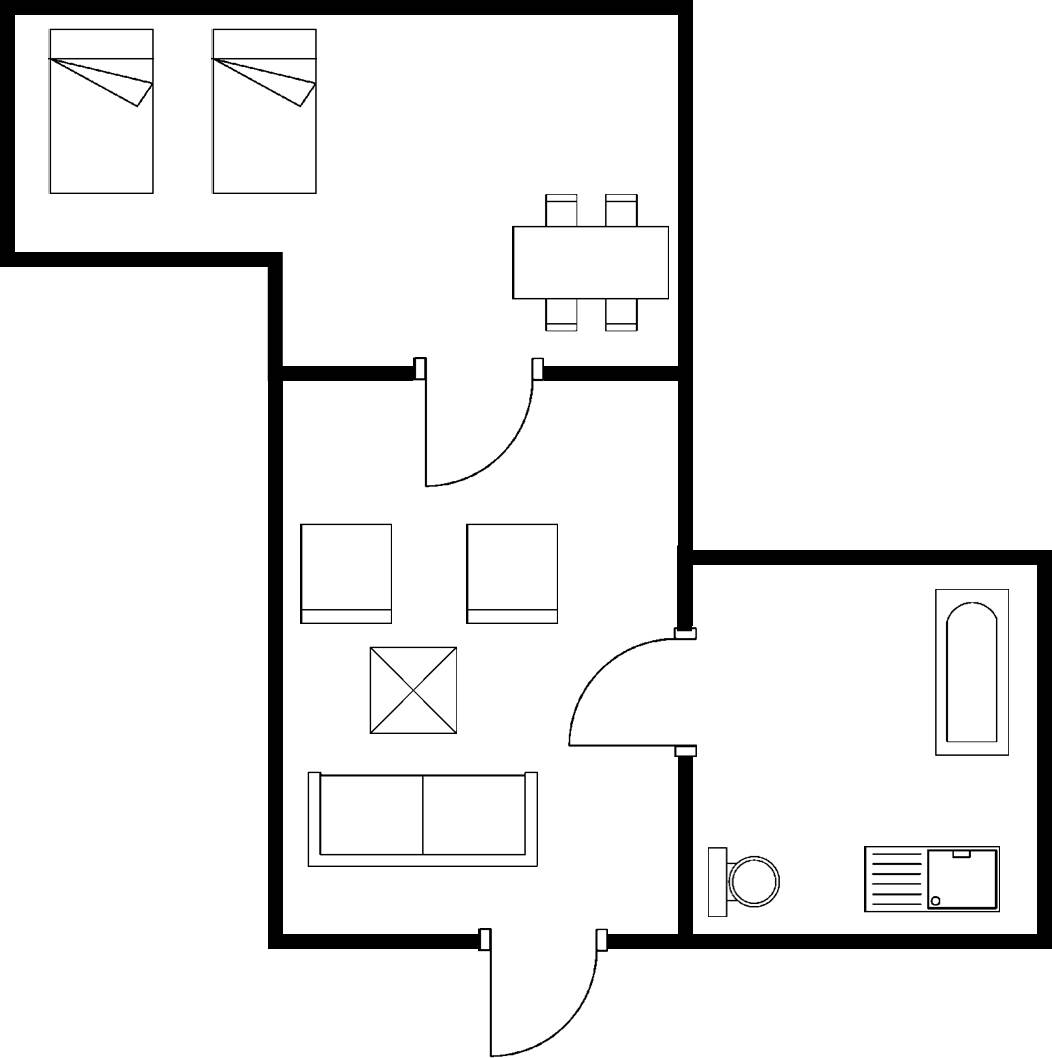bed: (206, 20, 331, 205), (40, 22, 160, 201)
coffee_table: (364, 641, 468, 743)
dining_table: (503, 186, 675, 343)
large_sink: (703, 840, 784, 924)
large_sofa: (300, 766, 543, 875)
sink: (855, 837, 1007, 920)
small_sofa: (458, 521, 573, 634), (292, 517, 400, 633)
tub: (927, 584, 1017, 762)
